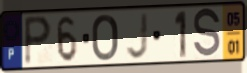1: (173, 9, 188, 60)
6: (55, 14, 79, 64)
J: (124, 11, 150, 61)
O: (91, 13, 120, 63)
P: (23, 14, 54, 67)
S: (192, 6, 222, 61)
